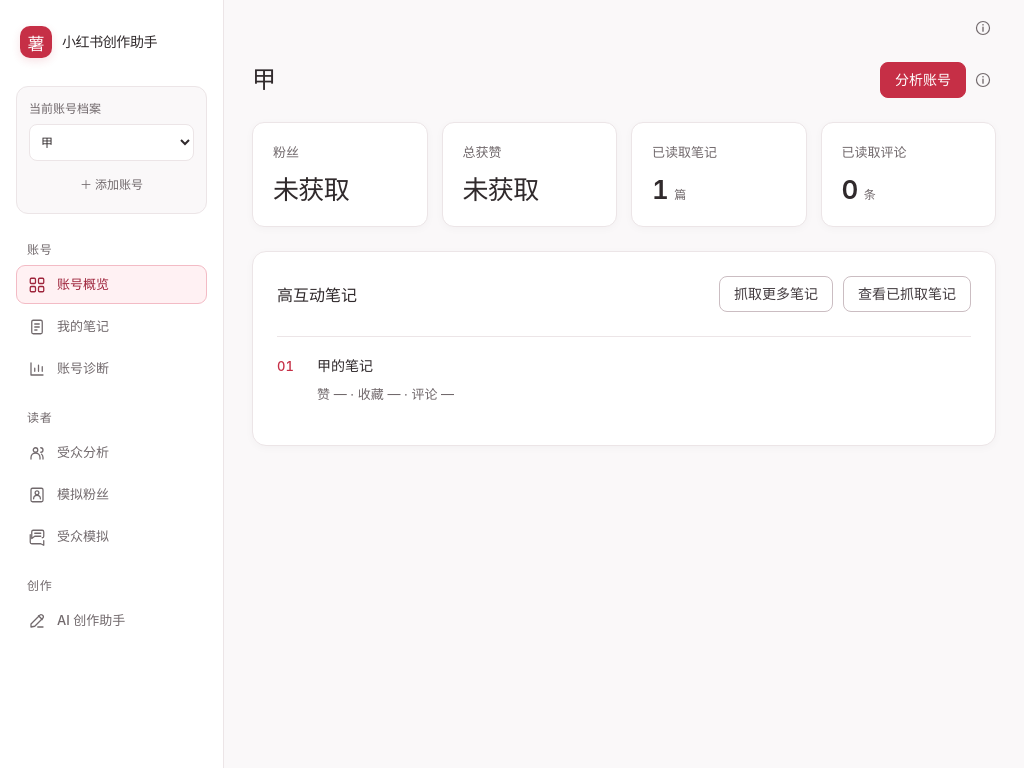
diagnosis history on the public diagnosis page › shows an empty history before the first run
The image size is (1024, 768).
Expected: the text "甲的笔记" is shown, [317,357,373,374]
Click the button "账号诊断".
click(112, 368)  # box [16,349,207,388]
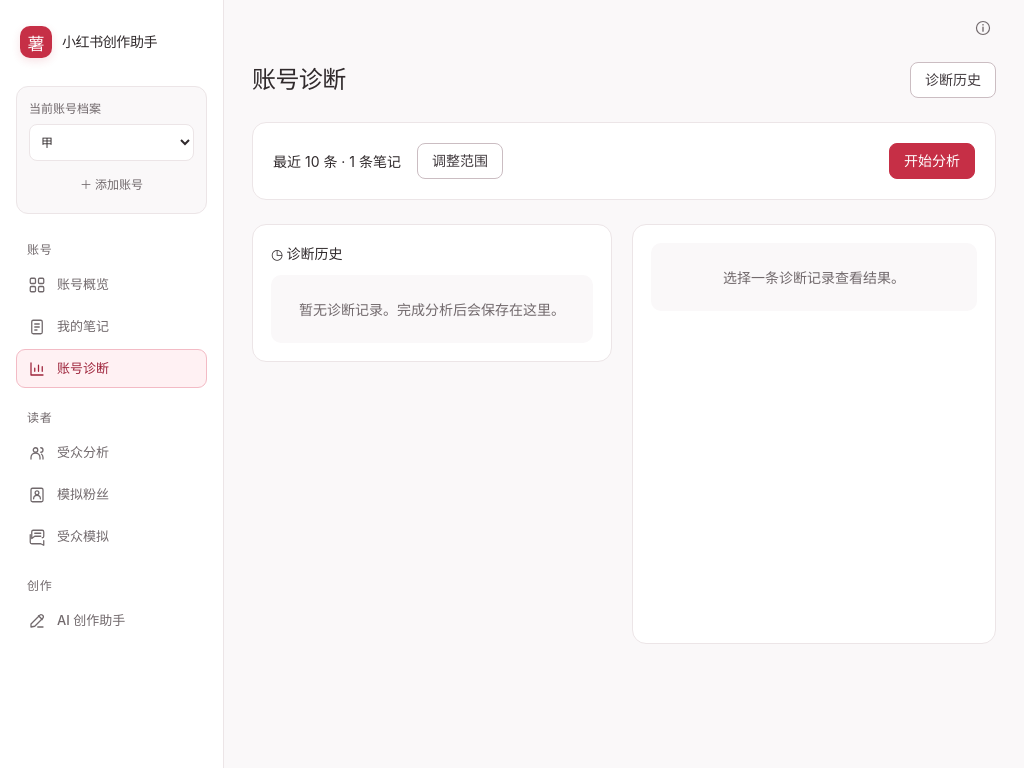
Expected: the button "开始分析" is enabled, [889,143,975,179]
Result: the text "暂无诊断记录。完成分析后会保存在这里。" is shown at [271,275,593,343]
